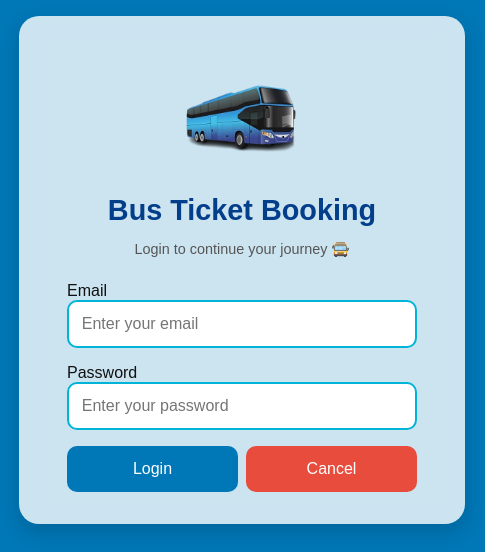
Login Component › resets form on cancel
Type "test@example.com" into the field with placeholder "Enter your email".
click(242, 324); type("test@example.com")  # box [67,300,417,348]
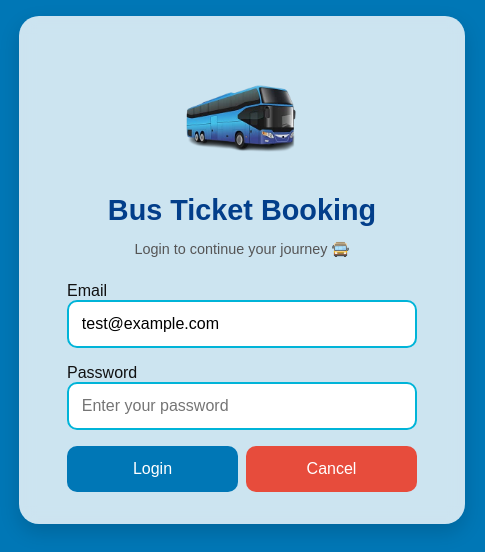
Type "password123" into the password field with placeholder "Enter your password".
click(242, 406); type("password123")  # box [67,382,417,430]
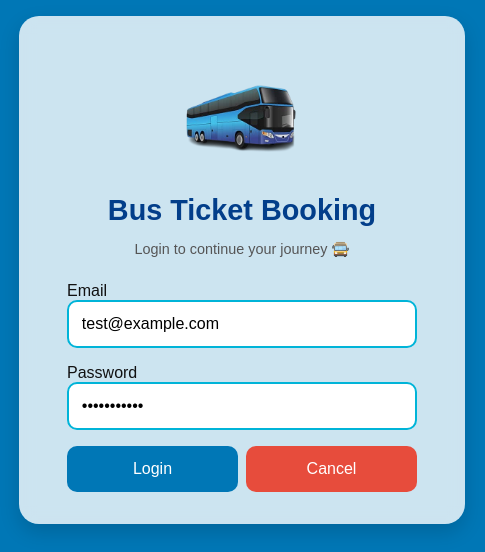
Click the button "Cancel".
click(332, 469)  # box [246,446,417,492]
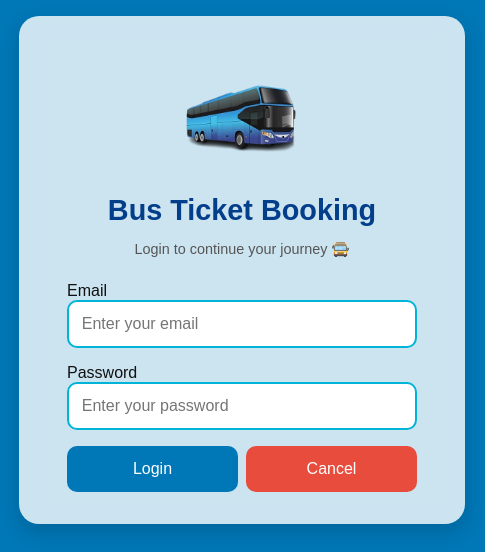
Result: the field with placeholder "Enter your email" is empty at [67,300,417,348]
Result: the password field with placeholder "Enter your password" is empty at [67,382,417,430]
